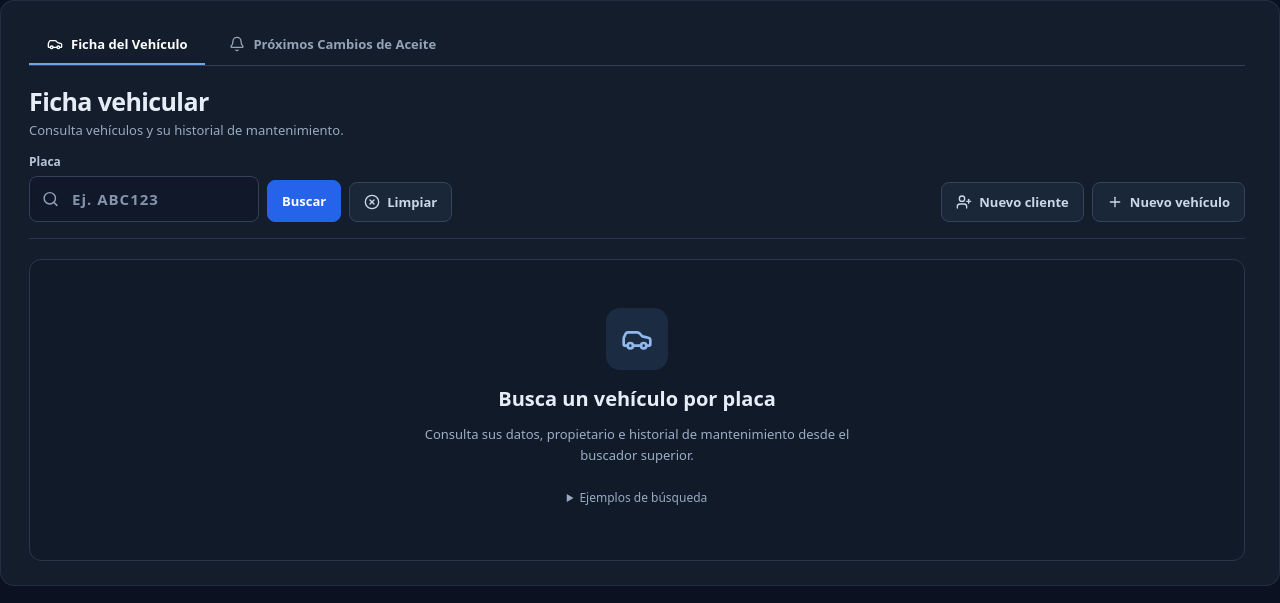
Test: FichaVehicularPage - Pruebas de Integración Frontend (Punto 15) › 3. Captura y muestra el mensaje de error cuando el vehículo no existe
In the field with placeholder "Ej. ABC123": (144, 199) x1=29 y1=176 x2=259 y2=222, type "XYZ999"
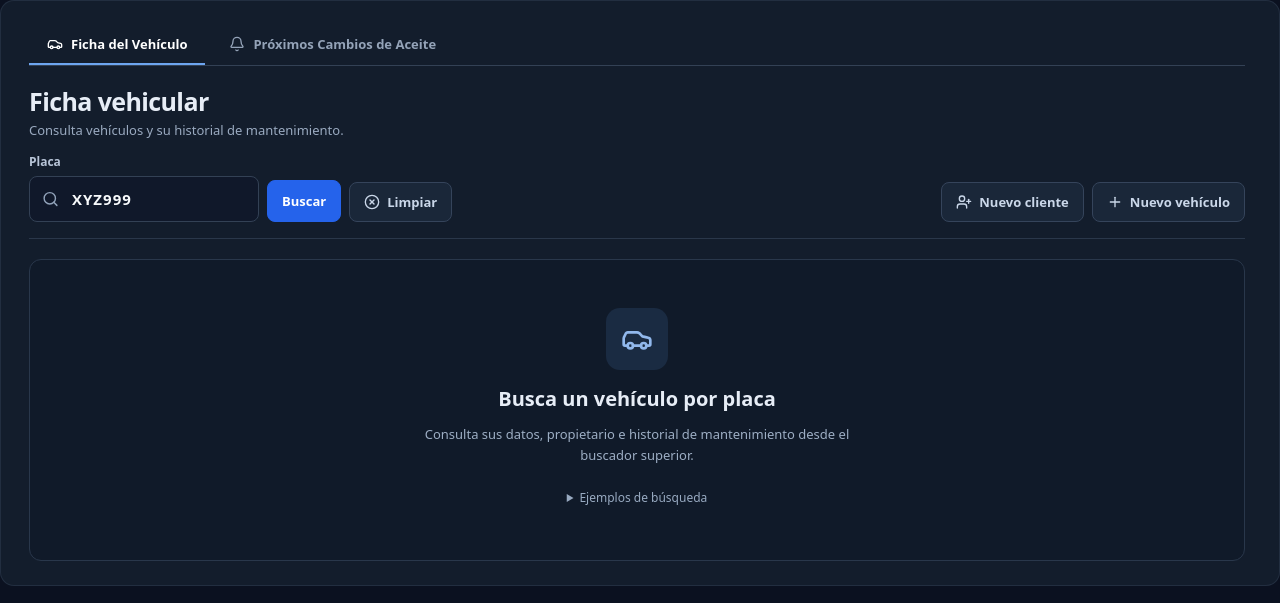
Click the button "Buscar": (304, 201) x1=267 y1=180 x2=341 y2=222
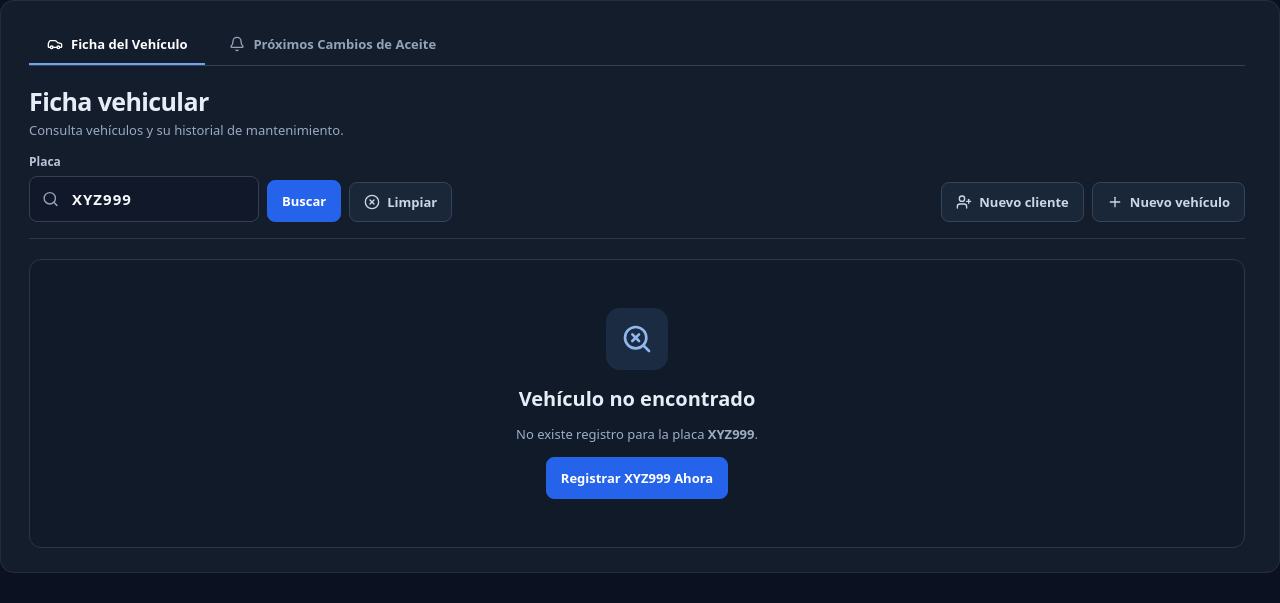
expect the heading "Vehículo no encontrado" is shown: met, box x1=519 y1=386 x2=755 y2=412
expect the text "No existe registro para la placa XYZ999." is shown: met, box x1=516 y1=424 x2=758 y2=445
expect the text "XYZ999" is shown: met, box x1=708 y1=425 x2=754 y2=443
